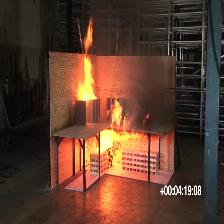fire: (101, 99, 148, 164), (78, 15, 97, 100)
